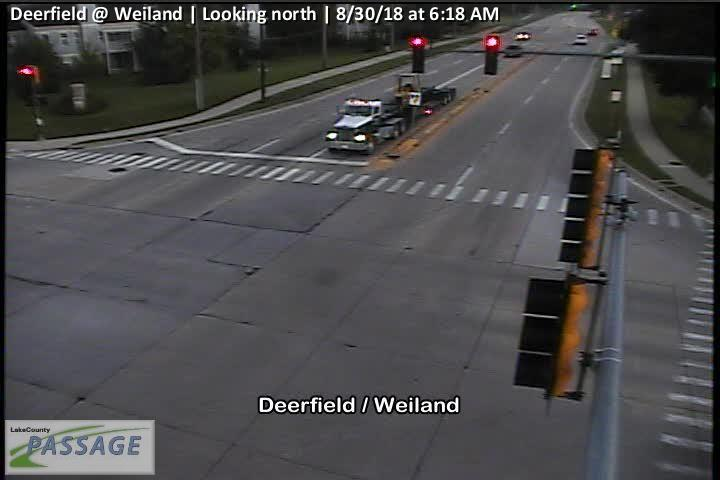Sedan: (515, 31, 531, 40), (574, 34, 587, 43)
Truck: (323, 99, 408, 155), (397, 71, 456, 110)
